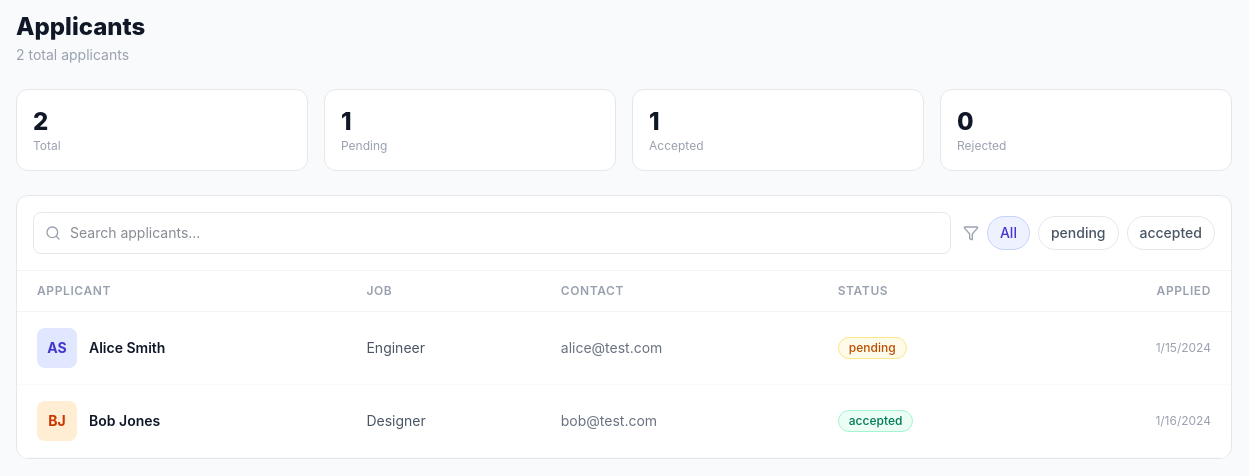
Scenario: Applicants Page › filters by search
Expected: the text "Alice Smith" is shown, [89, 338, 165, 358]
Type "Bob" into the field with placeholder "Search applicants…".
click(492, 233); type("Bob")  # box [33, 212, 951, 254]
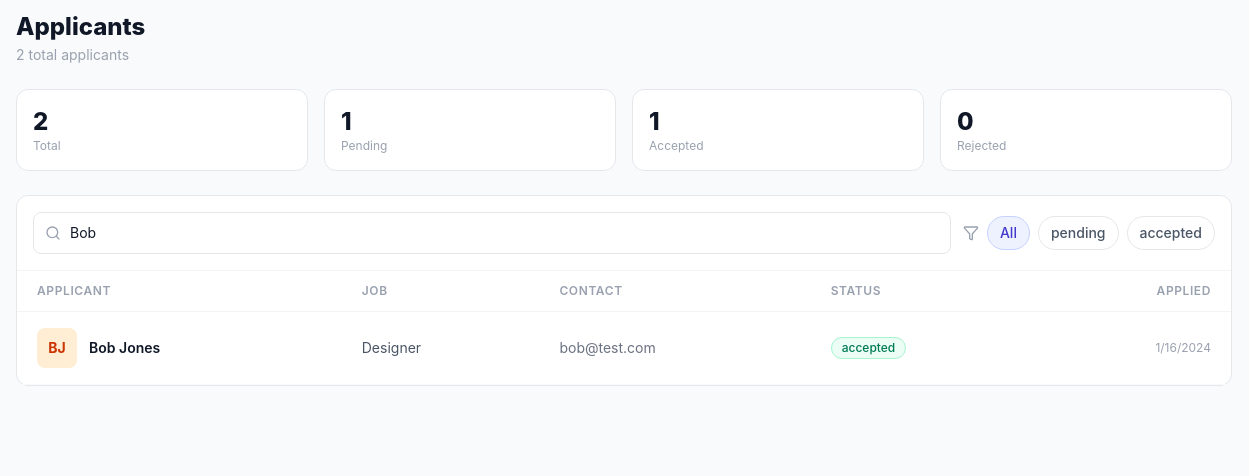
Expected: the text "Bob Jones" is shown, [89, 338, 160, 358]
Expected: the text "Alice Smith" is gone
